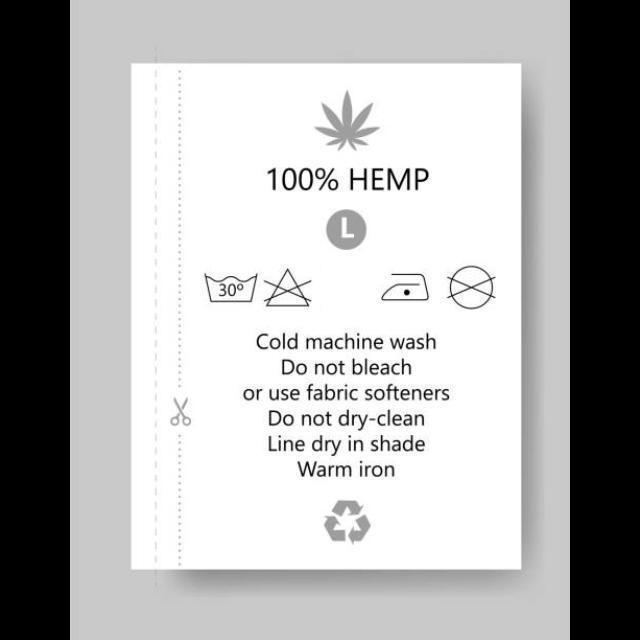30C: (200, 268, 262, 306)
DN_bleach: (261, 264, 317, 312)
DN_dry_clean: (445, 260, 499, 312)
iron_low: (378, 267, 434, 305)
